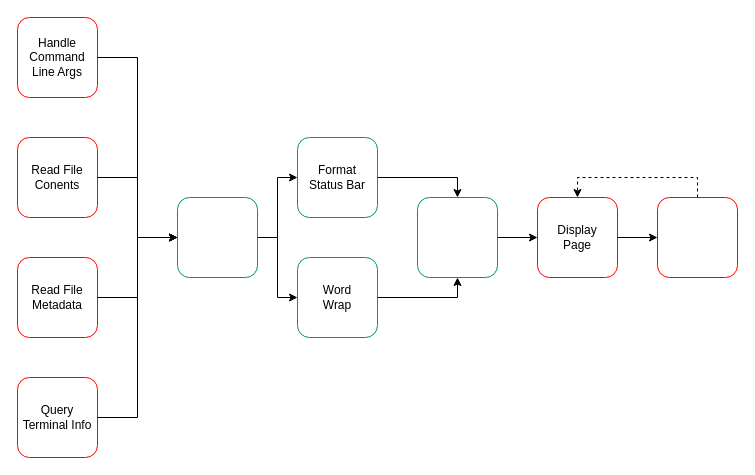
Some shapes in this 755 by 475 pixel diagram are drawn without their labels. Each missing label, with the centre of its shape:
Group Into Pages: point 457,237
Handle User Input: point 697,237
Paginate: point 217,237
